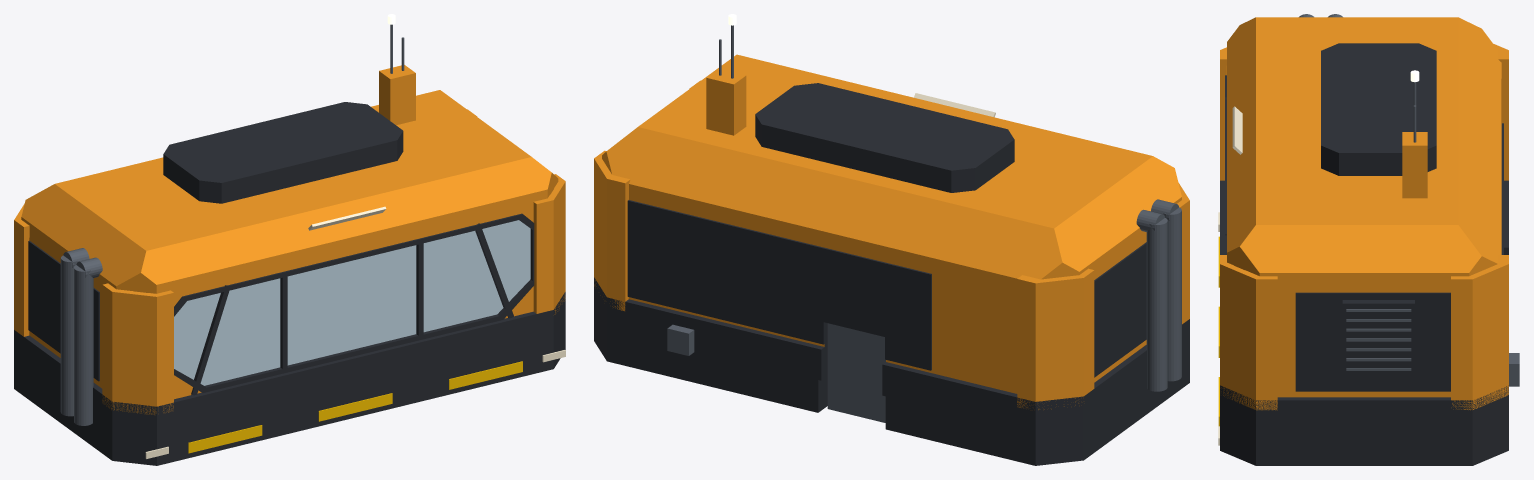
The model's file is SM_CommandCenter_Blockout.fbx.
The picture shows the model from 3 angles, left to right: view 1: azimuth 30°, elevation 25°; view 2: azimuth 150°, elevation 25°; view 3: azimuth 270°, elevation 25°; orthographic projection. The views are drawn at different scales.
Parts seen in each view (by area): view 1: MAIN_SHELL, BASE, WINDOW_GLASS, ROOF, CORNER_ARMOR_-1-1, WINDOW_FRAMES, CORNER_ARMOR_+1-1, SIDE_PANEL_L, EXHAUST_PIPES_0, EXHAUST_PIPES_1, BEACON_housing, CORNER_ARMOR_-1+1 (+7 smaller); view 2: MAIN_SHELL, BASE, BACK_PANEL, ROOF, CORNER_ARMOR_-1+1, SIDE_PANEL_L, DOOR, CORNER_ARMOR_+1+1, EXHAUST_PIPES_1, EXHAUST_PIPES_0, BEACON_housing, CORNER_ARMOR_-1-1 (+1 smaller); view 3: MAIN_SHELL, BASE, ROOF, SIDE_PANEL_R, CORNER_ARMOR_+1+1, CORNER_ARMOR_+1-1, VENTS_housing, BEACON_housing, CORNER_ARMOR_-1+1, CORNER_ARMOR_-1-1, LIGHTS_front_bar, BACK_PANEL (+2 smaller).
Part boxes in pixels (x1,y1,x2,y2): MAIN_SHELL: (21,90,558,399); BASE: (14,292,565,465); WINDOW_GLASS: (174,220,530,385); ROOF: (163,102,403,203); CORNER_ARMOR_-1-1: (102,283,173,414); WINDOW_FRAMES: (174,213,534,392); CORNER_ARMOR_+1-1: (533,174,565,314); SIDE_PANEL_L: (28,240,99,381); EXHAUST_PIPES_0: (74,265,93,425); EXHAUST_PIPES_1: (60,255,77,416); BEACON_housing: (379,65,415,125); CORNER_ARMOR_-1+1: (14,204,29,336); MAIN_SHELL: (602,54,1181,393); BASE: (594,277,1189,465); BACK_PANEL: (627,200,931,370); ROOF: (755,83,1014,192); CORNER_ARMOR_-1+1: (1017,268,1094,409); SIDE_PANEL_L: (1094,242,1146,377); DOOR: (827,323,885,422); CORNER_ARMOR_+1+1: (594,150,630,311); EXHAUST_PIPES_1: (1146,218,1167,391); EXHAUST_PIPES_0: (1163,207,1181,381); BEACON_housing: (706,69,746,135); CORNER_ARMOR_-1-1: (1177,183,1189,324); MAIN_SHELL: (1227,17,1501,397); BASE: (1220,180,1508,465); ROOF: (1321,43,1436,175); SIDE_PANEL_R: (1295,292,1450,391); CORNER_ARMOR_+1+1: (1451,255,1508,410); CORNER_ARMOR_+1-1: (1220,255,1277,410); VENTS_housing: (1342,300,1414,375); BEACON_housing: (1402,132,1427,198); CORNER_ARMOR_-1+1: (1493,44,1508,180); CORNER_ARMOR_-1-1: (1220,47,1226,180); LIGHTS_front_bar: (1232,106,1242,154); BACK_PANEL: (1501,123,1503,254).
Size of the model in its own units: 16.63 by 10.35 by 8.35.
